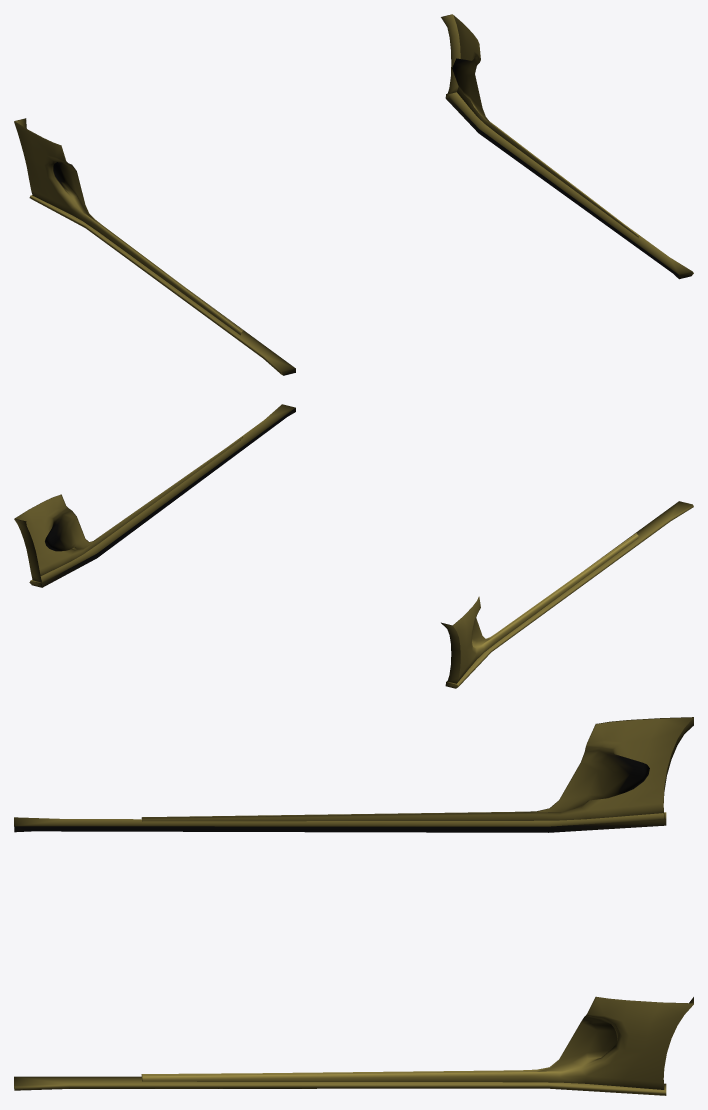
File: Supra_SideSkirt_02_Duco.fbx
3 renders of one model, top to bottom at view 1: azimuth 30°, elevation 25°; view 2: azimuth 150°, elevation 25°; view 3: azimuth 270°, elevation 25°, orthographic. The views are drawn at different scales.
Visible parts, largest first — view 1: Supra_SideSkirt_02_Duco; view 2: Supra_SideSkirt_02_Duco; view 3: Supra_SideSkirt_02_Duco.
Boxes of the visible parts, box(x1,y1,x2,y2) form: Supra_SideSkirt_02_Duco: box(14, 14, 693, 375); Supra_SideSkirt_02_Duco: box(14, 404, 693, 688); Supra_SideSkirt_02_Duco: box(14, 717, 693, 1095).
Bounding box in the file's own units: 187 × 29.52 × 187.
